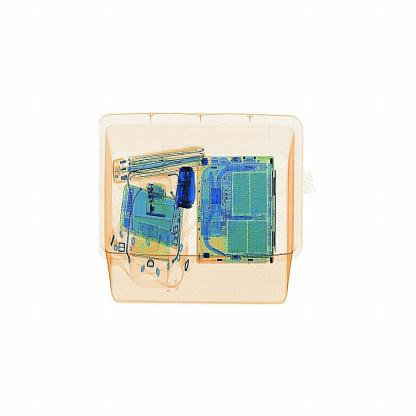scissors: (167, 158, 205, 218)
